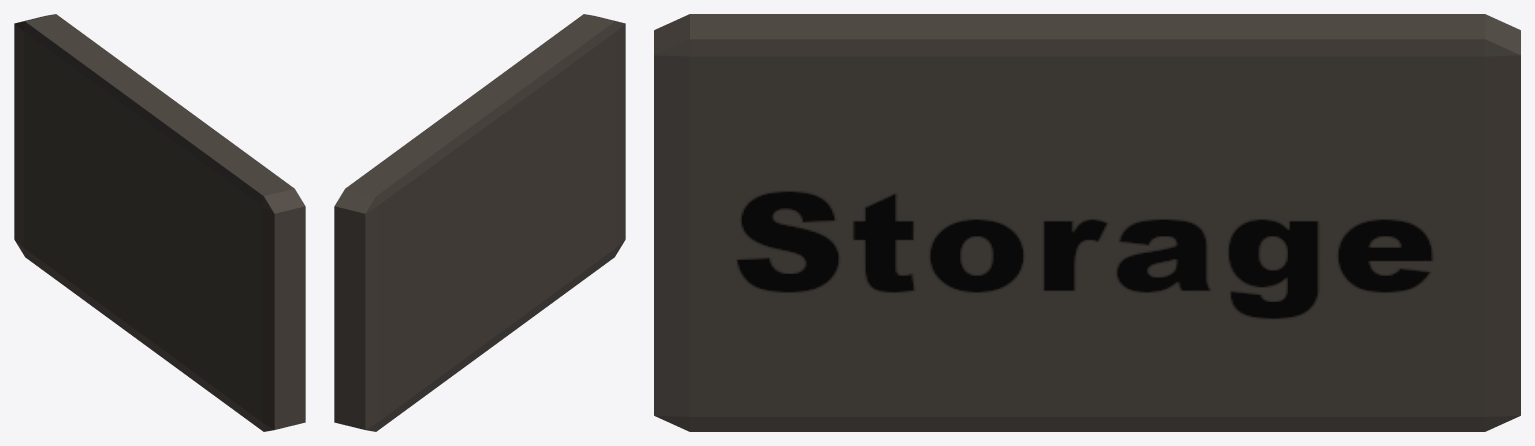
File: storageSign.fbx
3 renders of one model, left to right at view 1: azimuth 30°, elevation 25°; view 2: azimuth 150°, elevation 25°; view 3: azimuth 270°, elevation 25°, orthographic. The views are drawn at different scales.
Visible parts, largest first — view 1: Cube; view 2: Cube; view 3: Cube.
Boxes of the visible parts, <box> form: Cube: <box>14,14,305,431</box>; Cube: <box>334,14,625,431</box>; Cube: <box>654,14,1520,431</box>.
Size of the model in its own units: 3 by 20 by 40.
